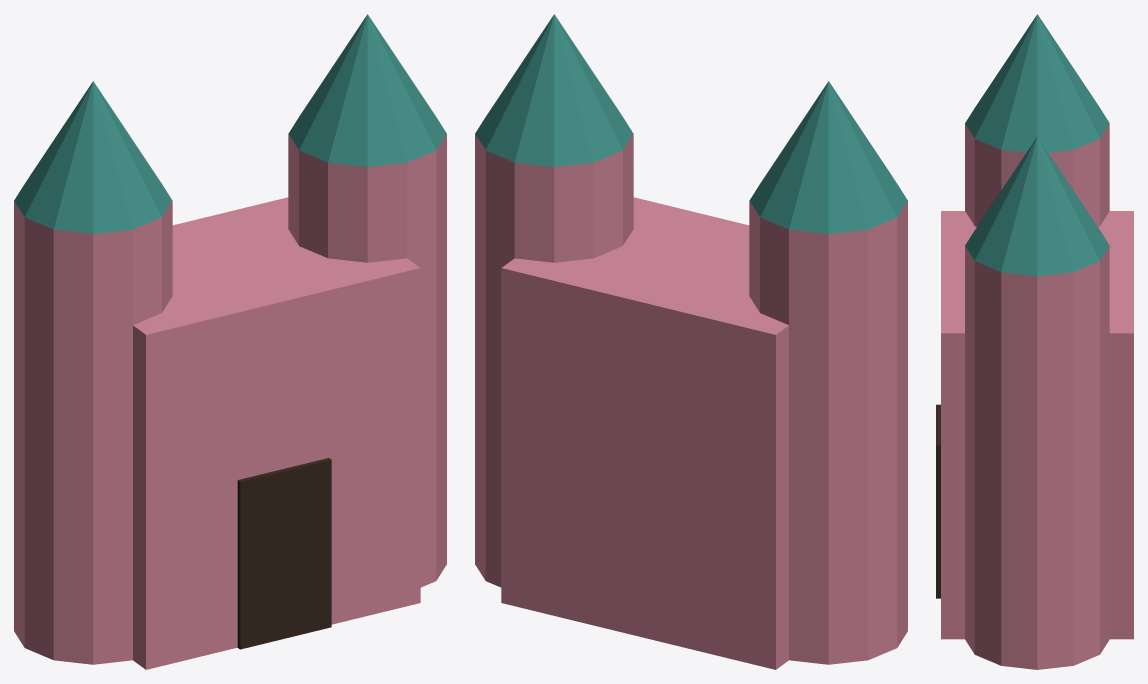
Rendered from castle.glb.
3 renders of one model, left to right at view 1: azimuth 30°, elevation 25°; view 2: azimuth 150°, elevation 25°; view 3: azimuth 270°, elevation 25°, orthographic. The views are drawn at different scales.
Parts seen in each view (by area): view 1: castle; view 2: castle; view 3: castle.
Part boxes in pixels (x1,y1,x2,y2): castle: (14, 14, 446, 669); castle: (475, 14, 907, 669); castle: (936, 14, 1133, 669).
Bounding box in the file's own units: 1.8 × 2.3 × 0.82.
